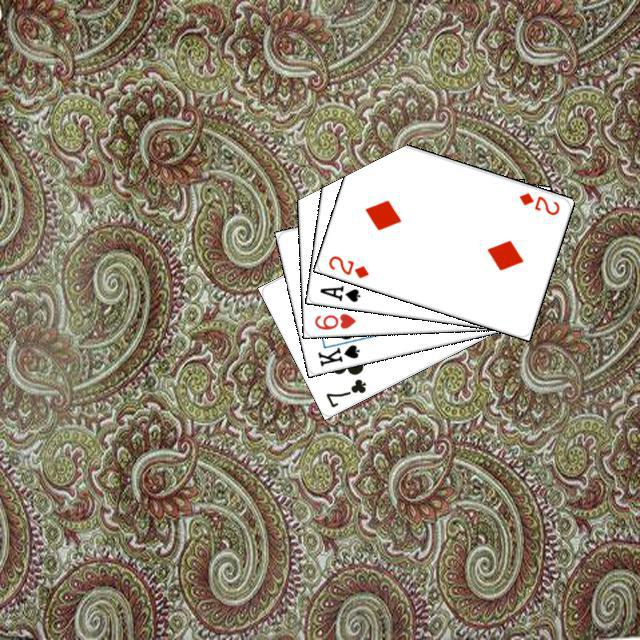2d: (323, 251, 371, 280), (514, 188, 561, 217)
6h: (310, 309, 357, 331)
7c: (321, 374, 368, 410)
As: (315, 280, 362, 304)
Ks: (313, 339, 361, 368)
